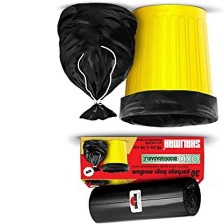plastic_bag: (36, 2, 141, 124), (82, 175, 203, 224), (115, 87, 222, 130), (79, 138, 108, 171), (95, 162, 132, 173)
